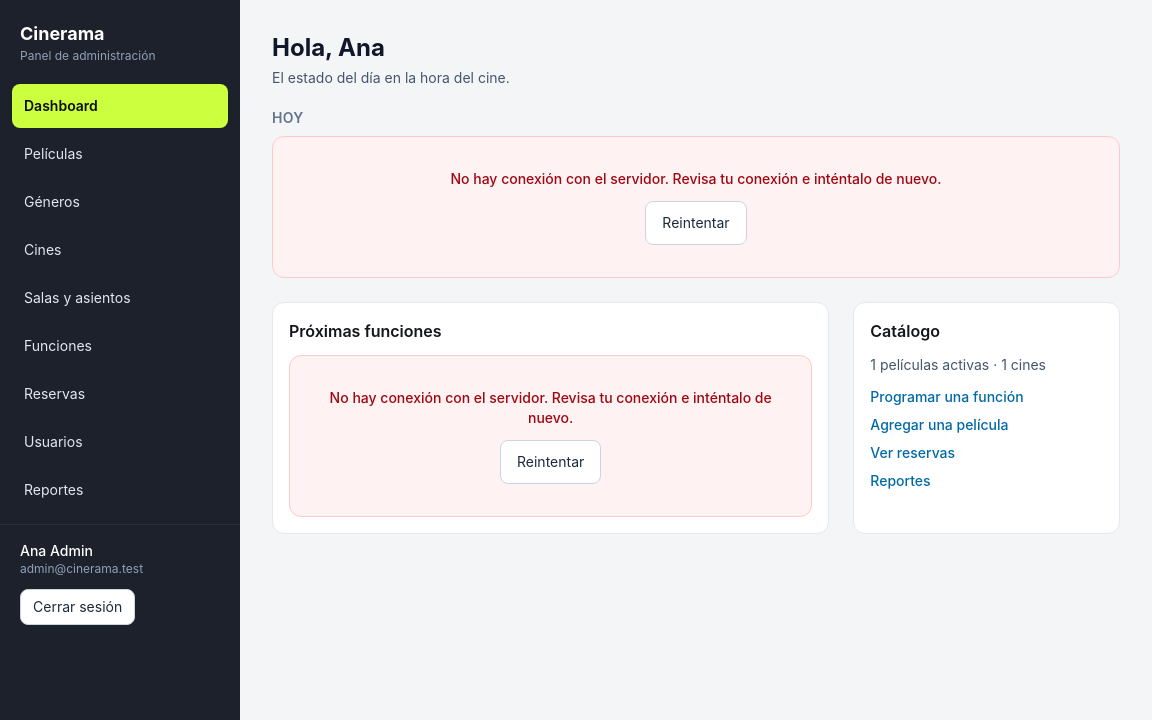
Test: autenticación y rutas protegidas › al cerrar sesión se vuelve al login y se limpia el token
Expected: the heading "Hola, Ana" is shown, left=272, top=33, right=385, bottom=62
Step 1. Click the button "Cerrar sesión" → coordinates (78, 607), box left=20, top=589, right=135, bottom=625
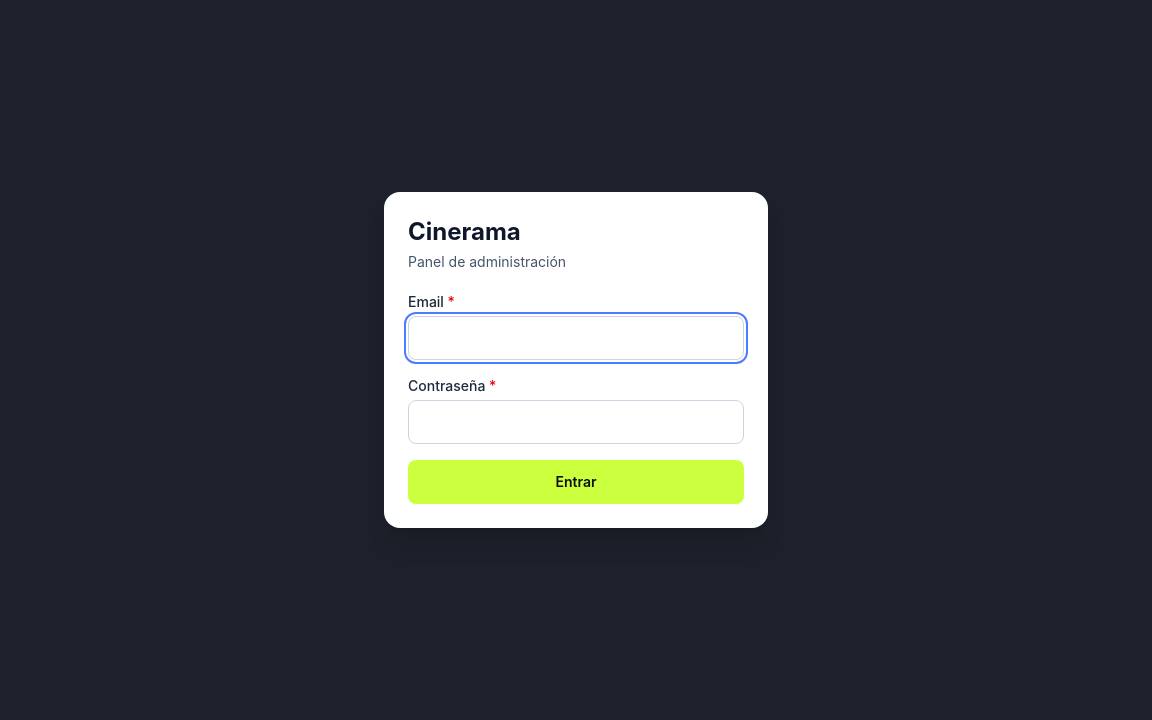
Now the field labelled "Email *" is shown, box left=408, top=316, right=744, bottom=360
